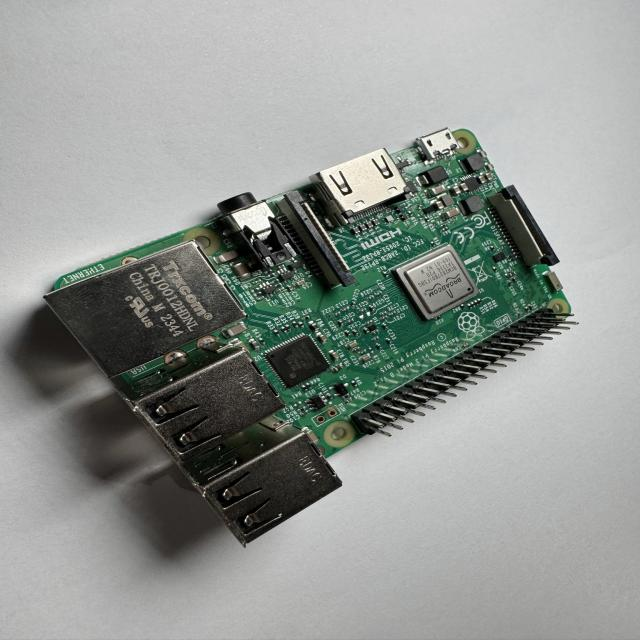CPU: (392, 246, 480, 323)
Ethernet: (45, 234, 243, 376)
GPIO: (354, 310, 577, 437)
HDMI: (310, 148, 409, 228)
RAM-3: (256, 328, 336, 393)
Raspberry: (43, 128, 576, 548)
